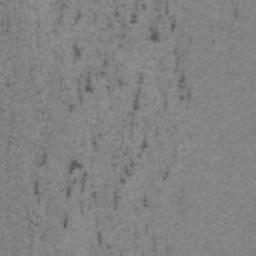Oxide scale of temperature system: (24, 134, 170, 247), (114, 0, 193, 102), (68, 44, 145, 114), (72, 9, 83, 24), (230, 6, 241, 20)
